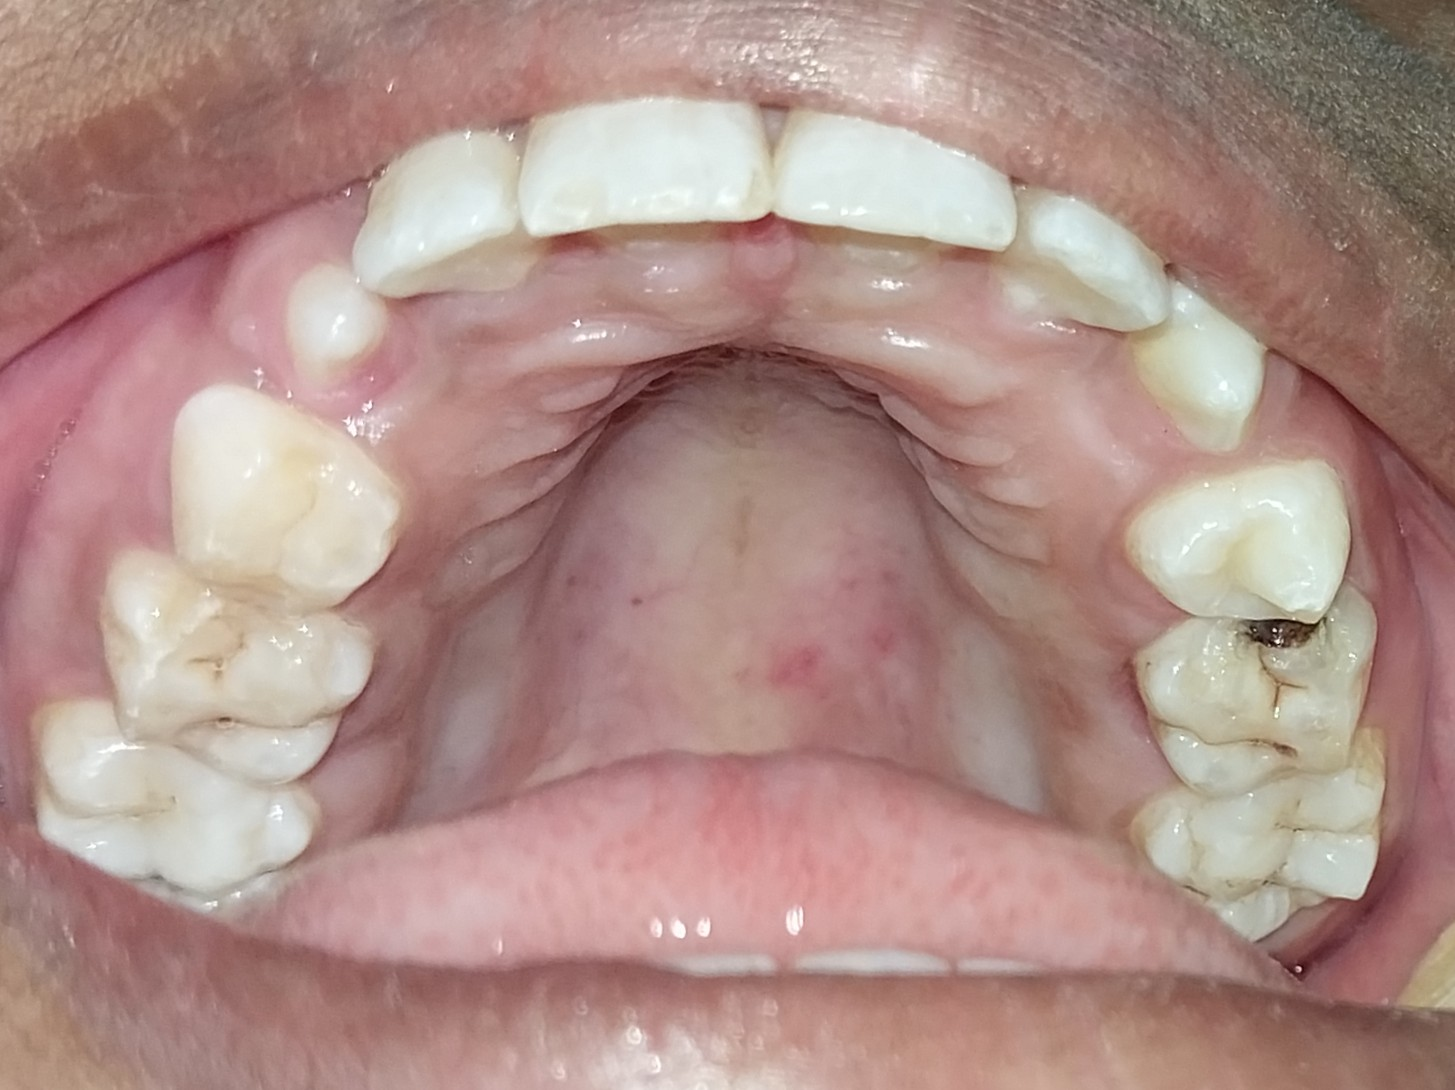D: (1131, 586, 1380, 800)
